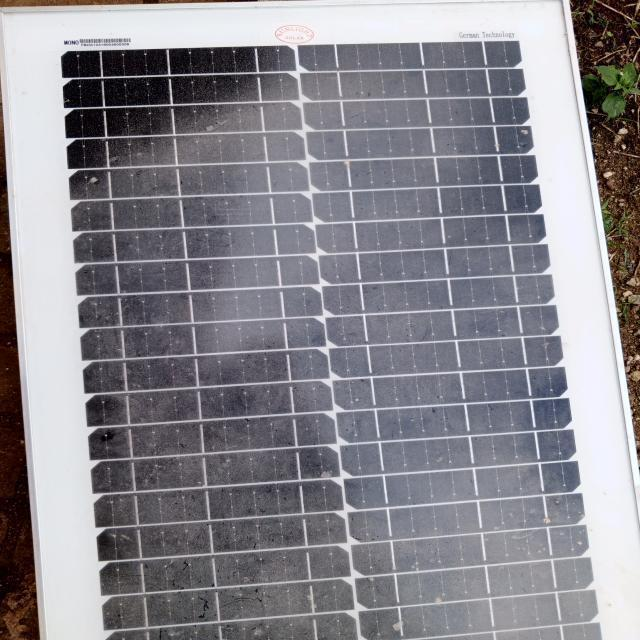Surface Contaminant: (56, 89, 545, 638)
